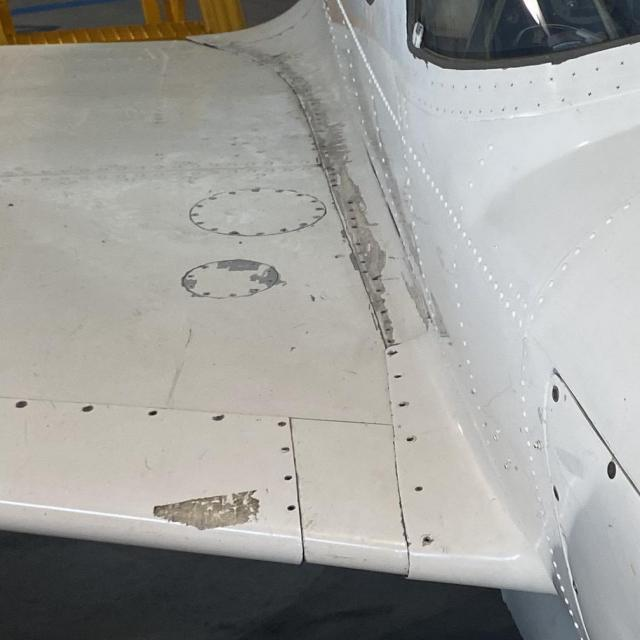Missing-head: (402, 431, 422, 445), (419, 533, 435, 546), (11, 399, 30, 409), (284, 502, 297, 515), (386, 348, 401, 358), (79, 404, 96, 412), (391, 372, 406, 381), (281, 474, 295, 482), (395, 401, 409, 408)
Paint-off: (248, 265, 284, 289), (213, 257, 264, 272)
Scratch: (299, 96, 396, 348)
